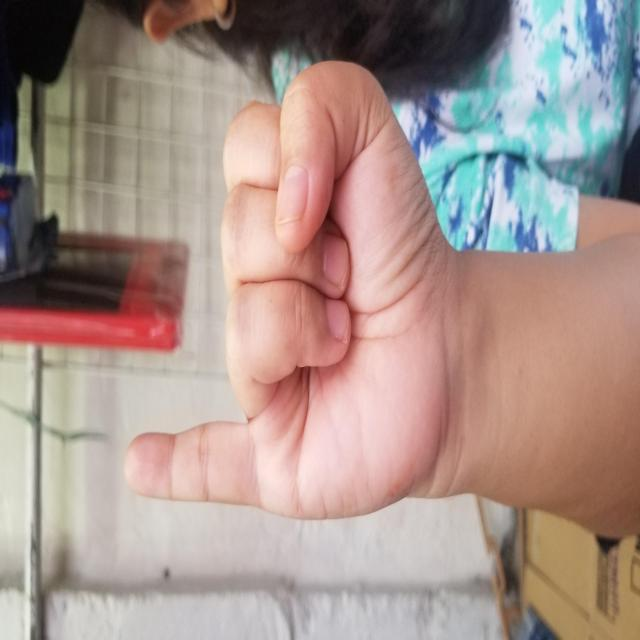I: (117, 123, 582, 440)
